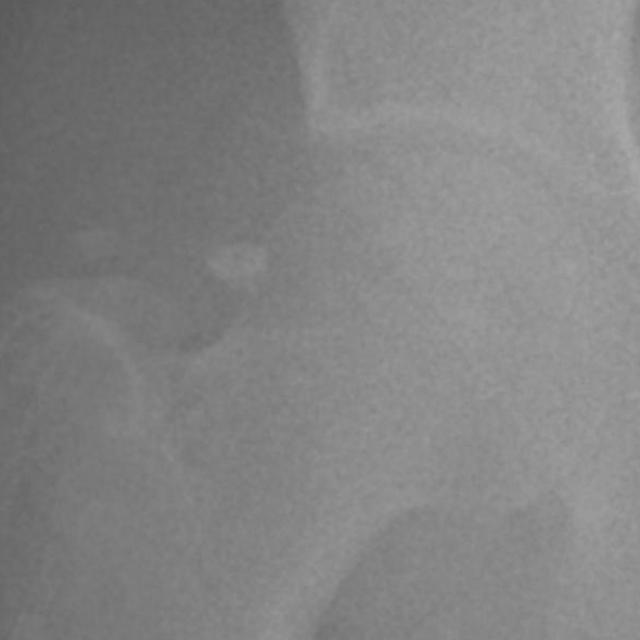Fitted_femural_head: (380, 151, 432, 380)
